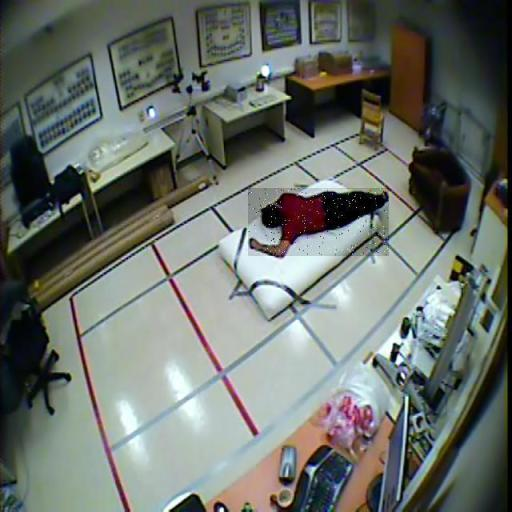Fall: (248, 188, 389, 256)
